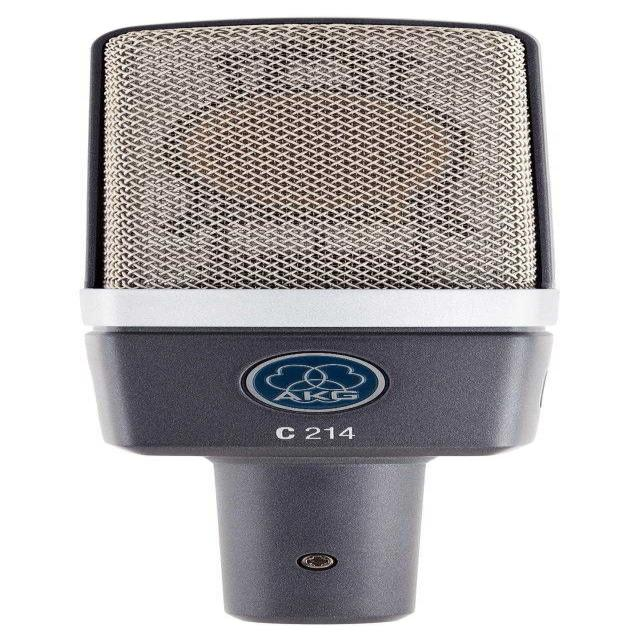microphone: (80, 27, 568, 614)
